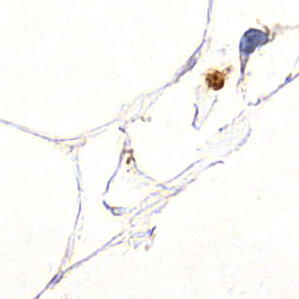Lymphocyte: (202, 70, 227, 91)
